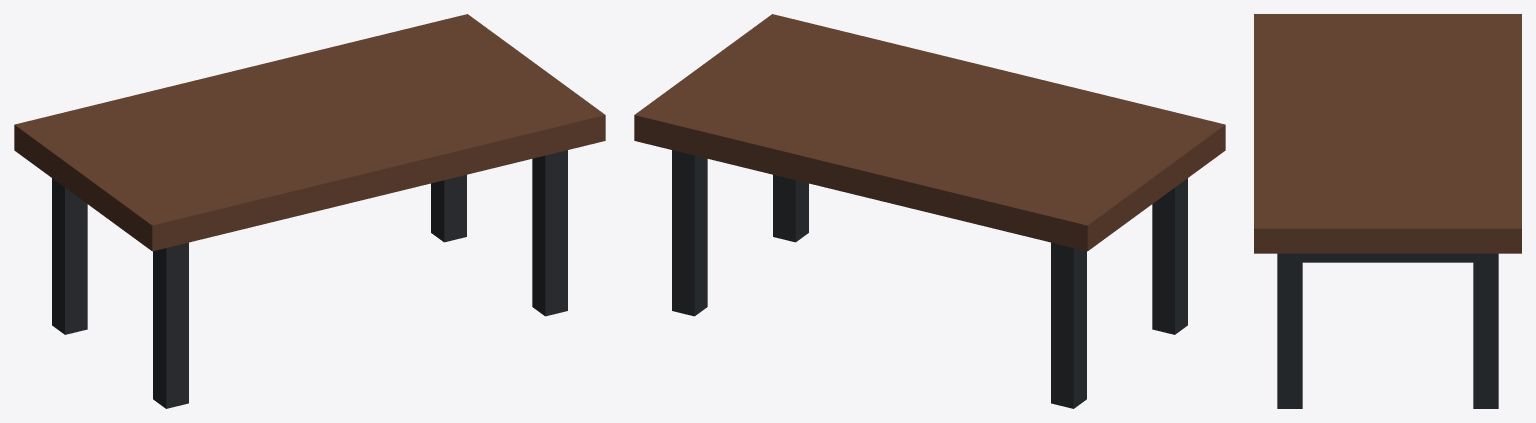
The model's file is coffee-table.glb.
3 views of the same model, side by side, from view 1: azimuth 30°, elevation 25°; view 2: azimuth 150°, elevation 25°; view 3: azimuth 270°, elevation 25° (orthographic). The views are drawn at different scales.
Parts seen in each view (by area): view 1: Hard-edged rectangular walnut tabletop, Pair of one-piece U-shaped steel end frames; view 2: Hard-edged rectangular walnut tabletop, Pair of one-piece U-shaped steel end frames; view 3: Hard-edged rectangular walnut tabletop, Pair of one-piece U-shaped steel end frames.
Part boxes in pixels (bbox=[...]): Hard-edged rectangular walnut tabletop: bbox=[14, 14, 605, 251]; Pair of one-piece U-shaped steel end frames: bbox=[52, 150, 567, 408]; Hard-edged rectangular walnut tabletop: bbox=[634, 14, 1225, 251]; Pair of one-piece U-shaped steel end frames: bbox=[672, 150, 1187, 408]; Hard-edged rectangular walnut tabletop: bbox=[1254, 14, 1521, 253]; Pair of one-piece U-shaped steel end frames: bbox=[1277, 253, 1498, 408].
Bounding box in the file's own units: 1.1 × 0.46 × 0.58.
